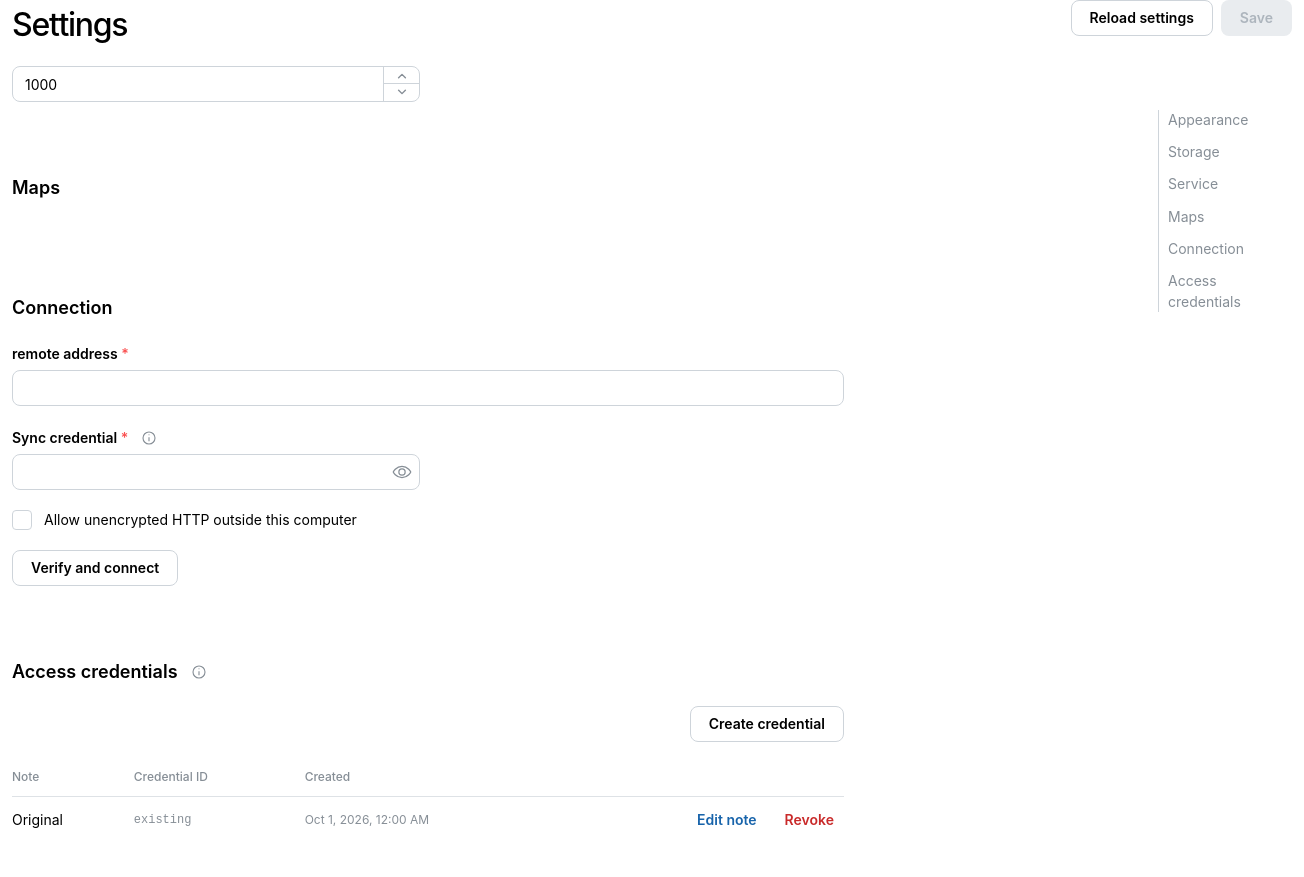
Test: stages edits and revocations, clears reverted differences and discards them on reload
(page scrolled)
Click the button "Edit note" at (727, 820), box x1=688 y1=807 x2=766 y2=833
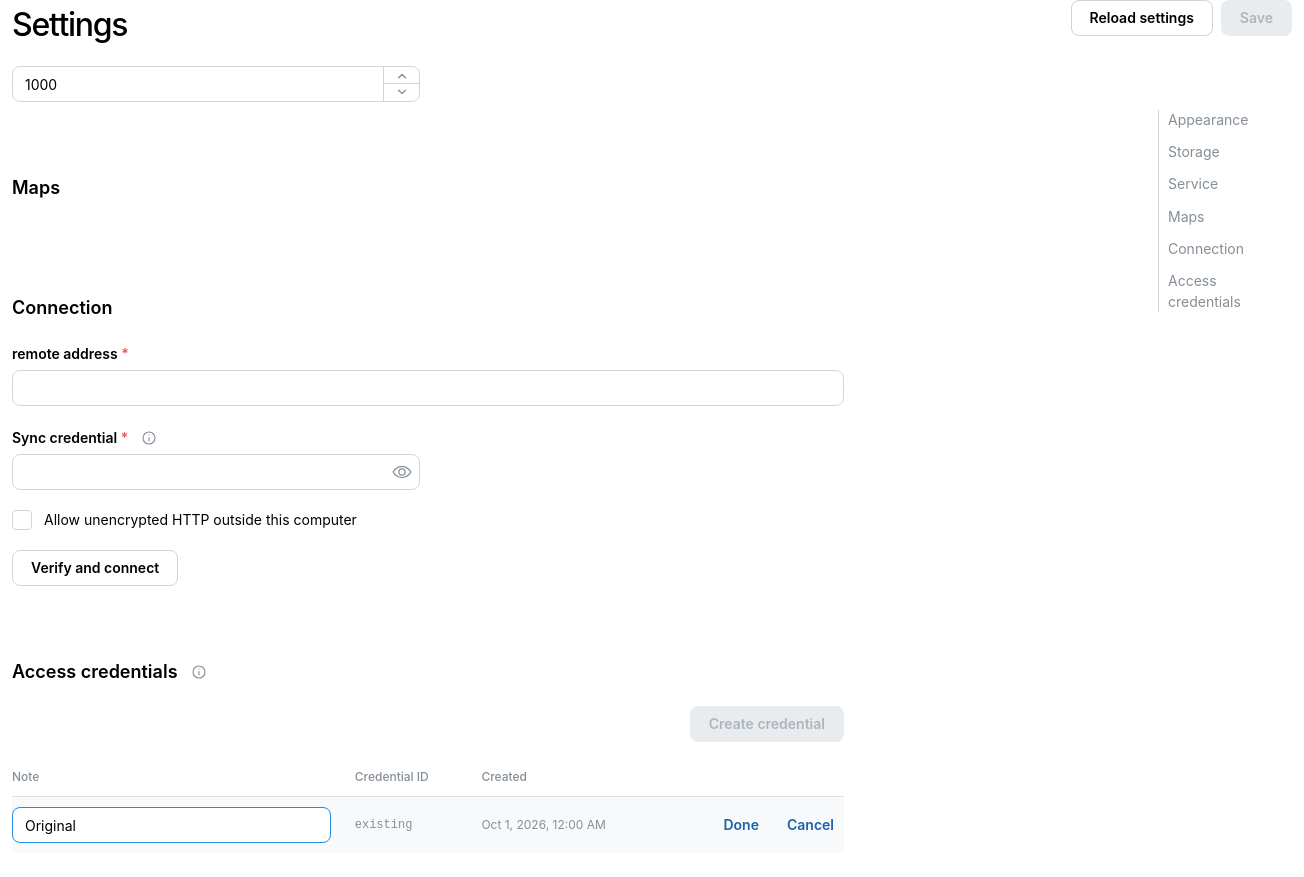
Replace the text in the field named "Note (optional)" with "Other" at (171, 825), box x1=12 y1=807 x2=331 y2=843
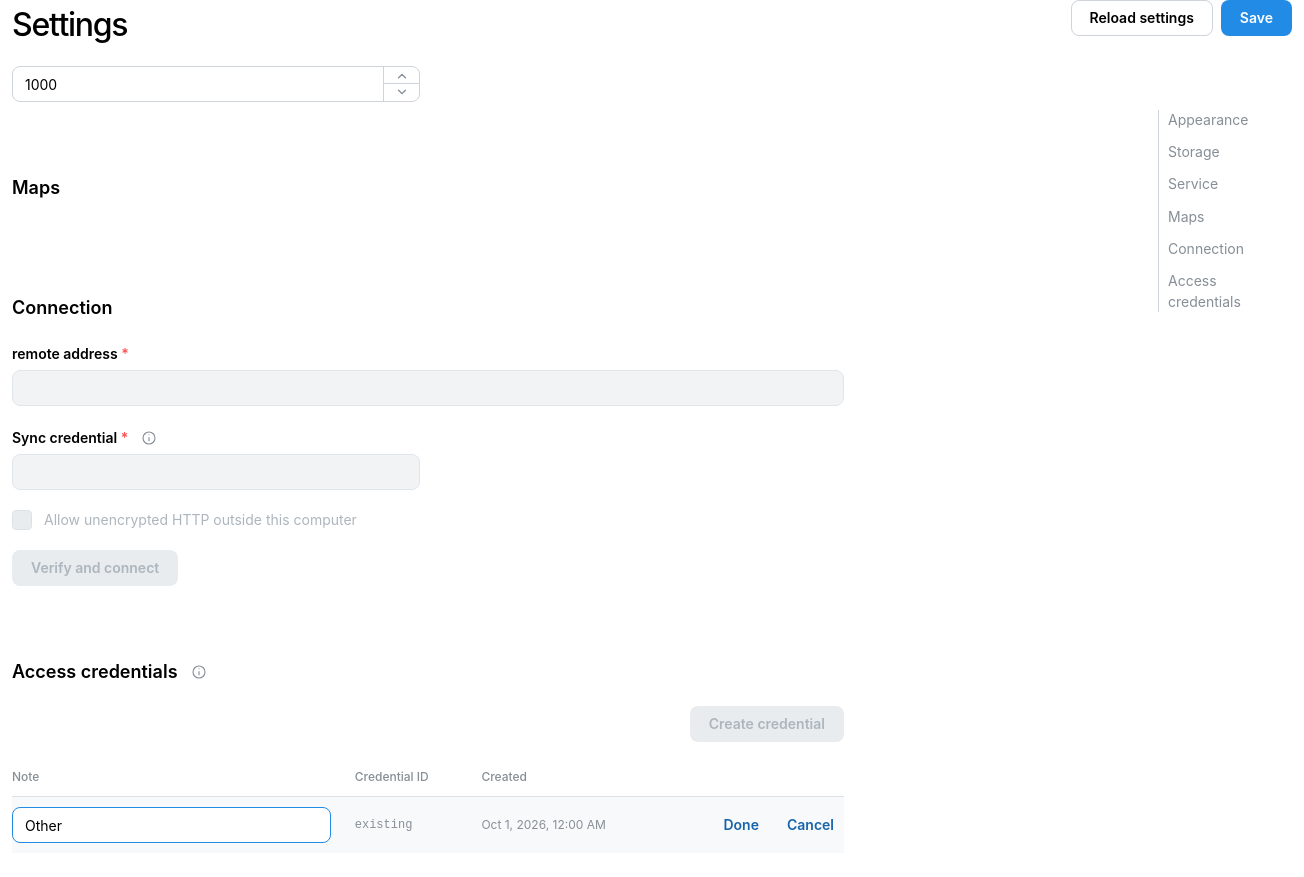
Now the button "Save" is enabled, box x1=1221 y1=0 x2=1292 y2=36
Replace the text in the field named "Note (optional)" with "Original" at (171, 825), box x1=12 y1=807 x2=331 y2=843
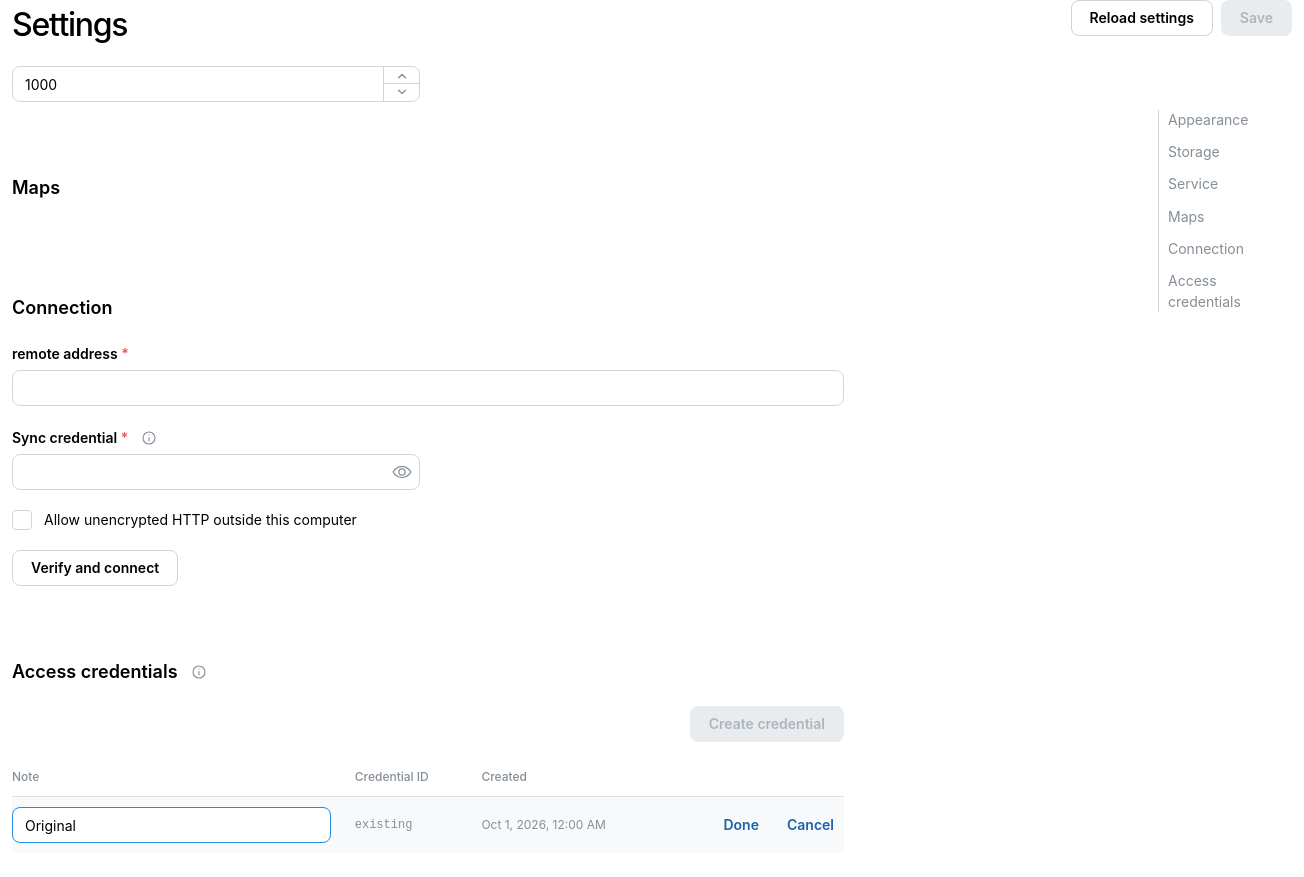
Now the button "Save" is disabled, box x1=1221 y1=0 x2=1292 y2=36
Click the button "Done" at (741, 825), box x1=714 y1=812 x2=768 y2=838
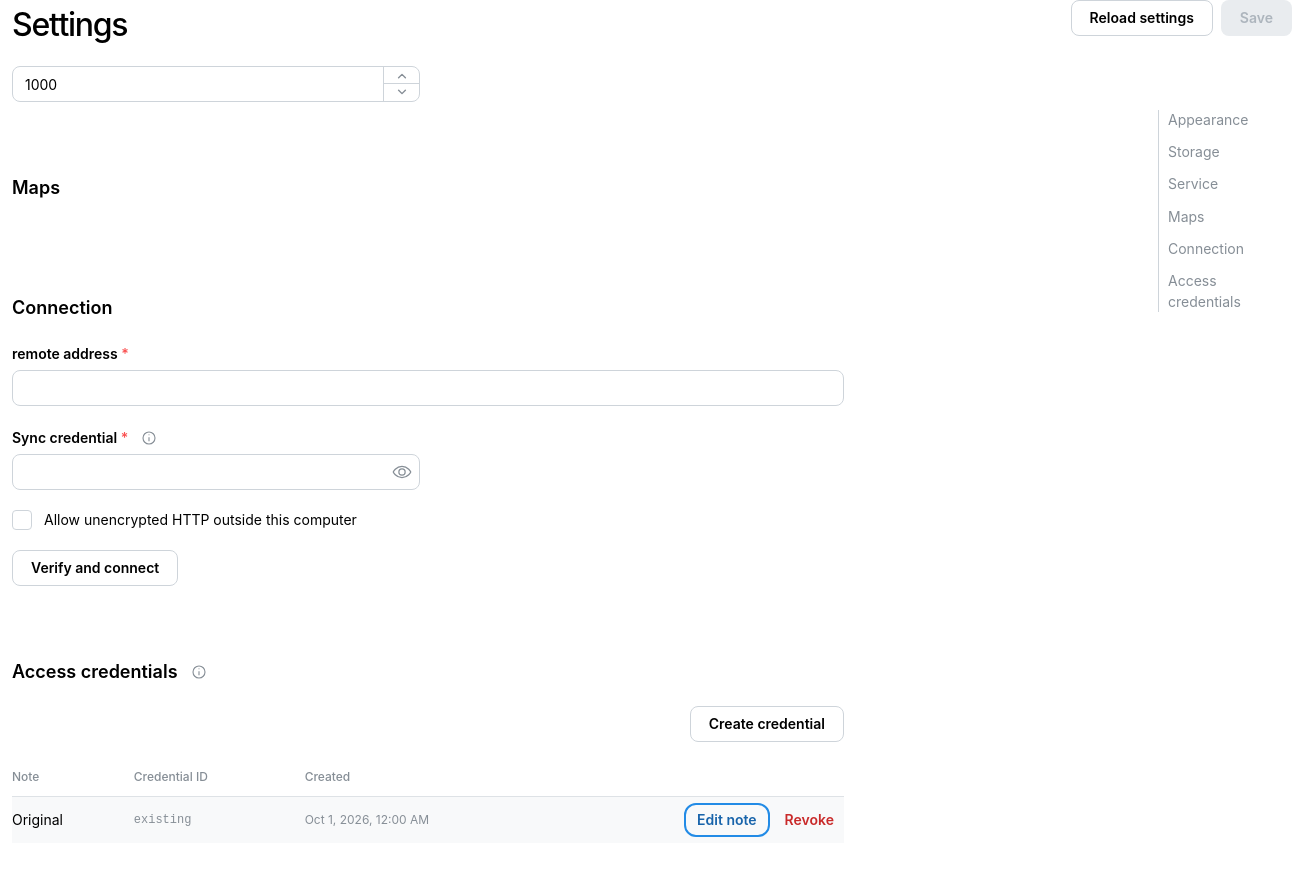
Click the button "Revoke" at (809, 820), box x1=776 y1=807 x2=843 y2=833
(page scrolled)
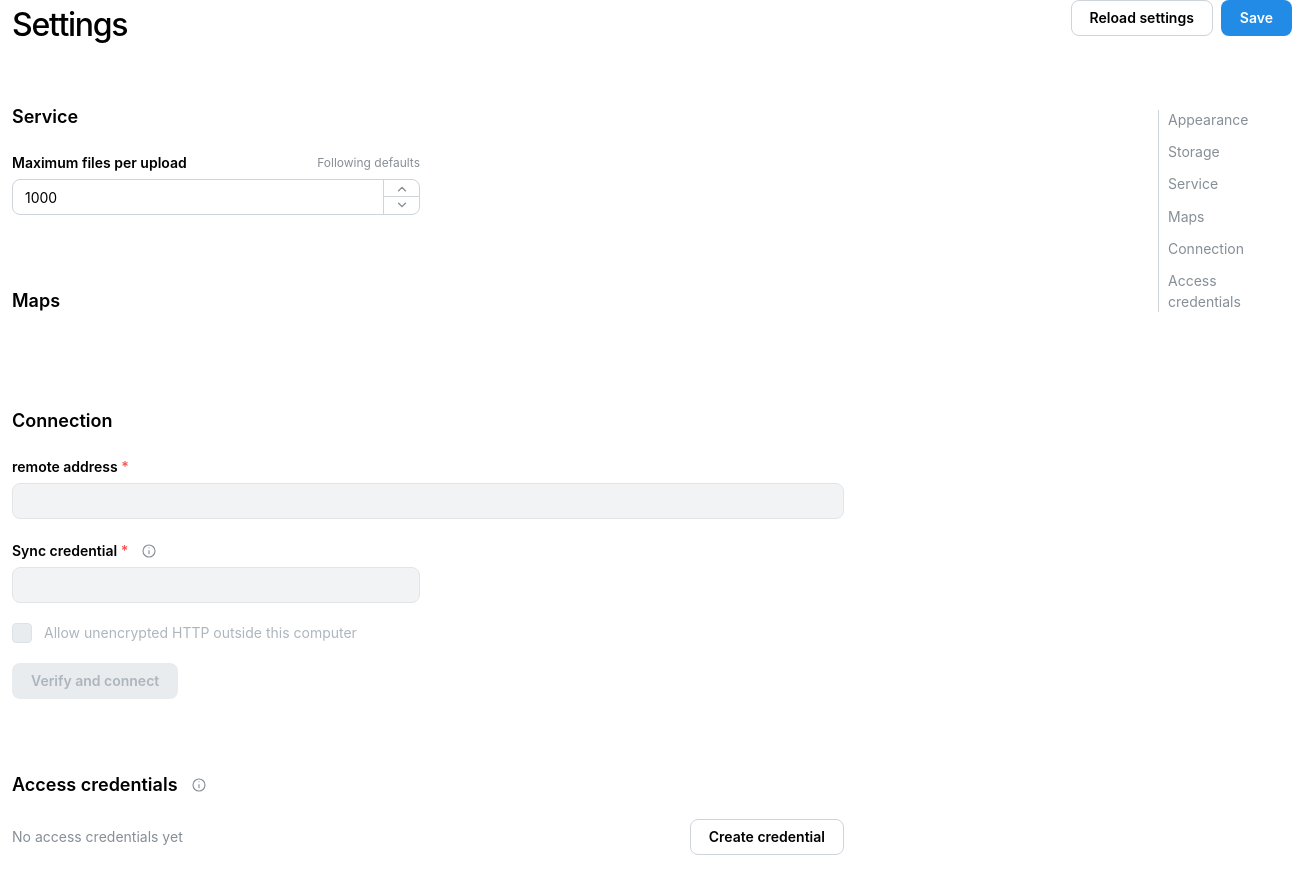
Now the text "existing" is gone
Click the button "Reload settings" at (1142, 18), box x1=1070 y1=0 x2=1213 y2=36
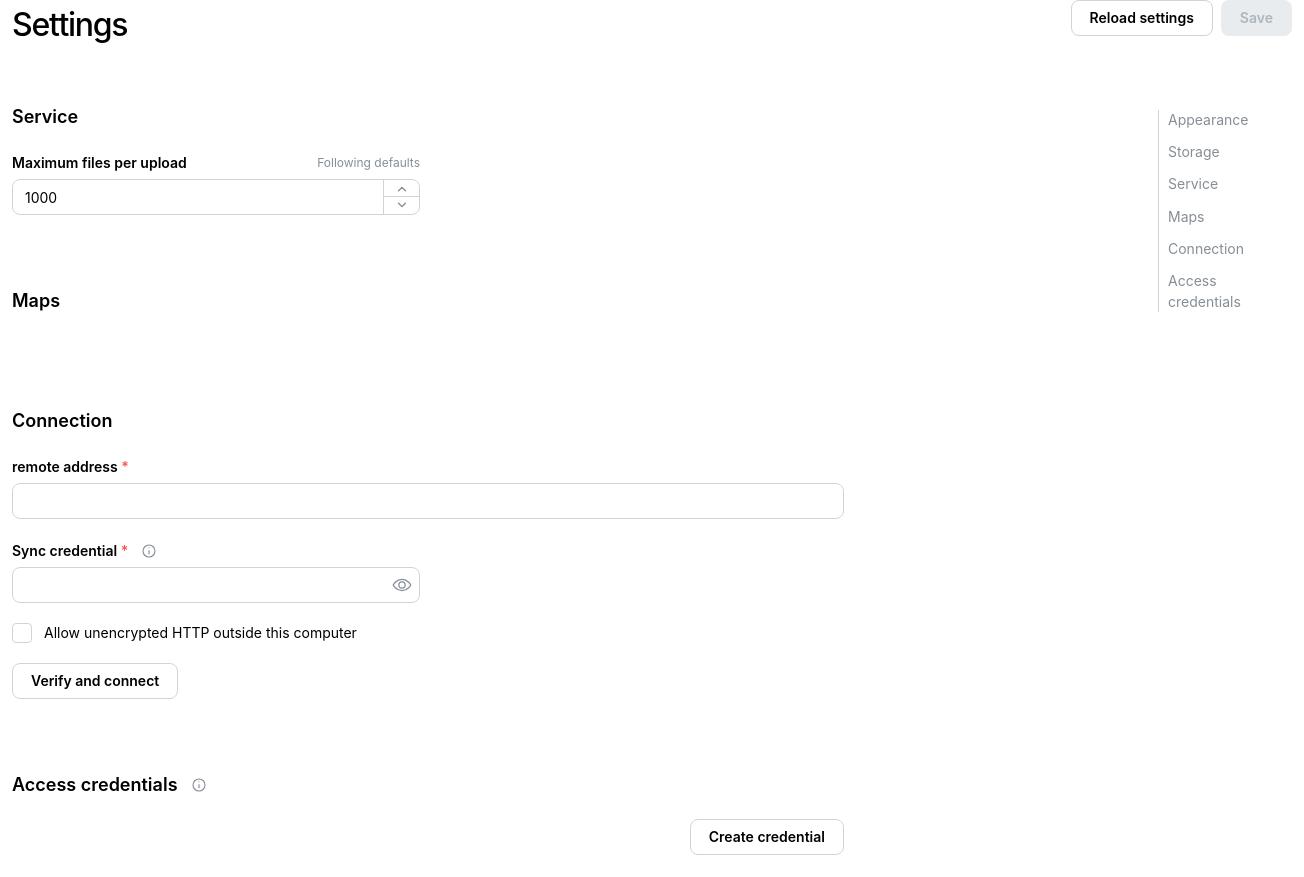
Now the button "Save" is disabled, box x1=1221 y1=0 x2=1292 y2=36
